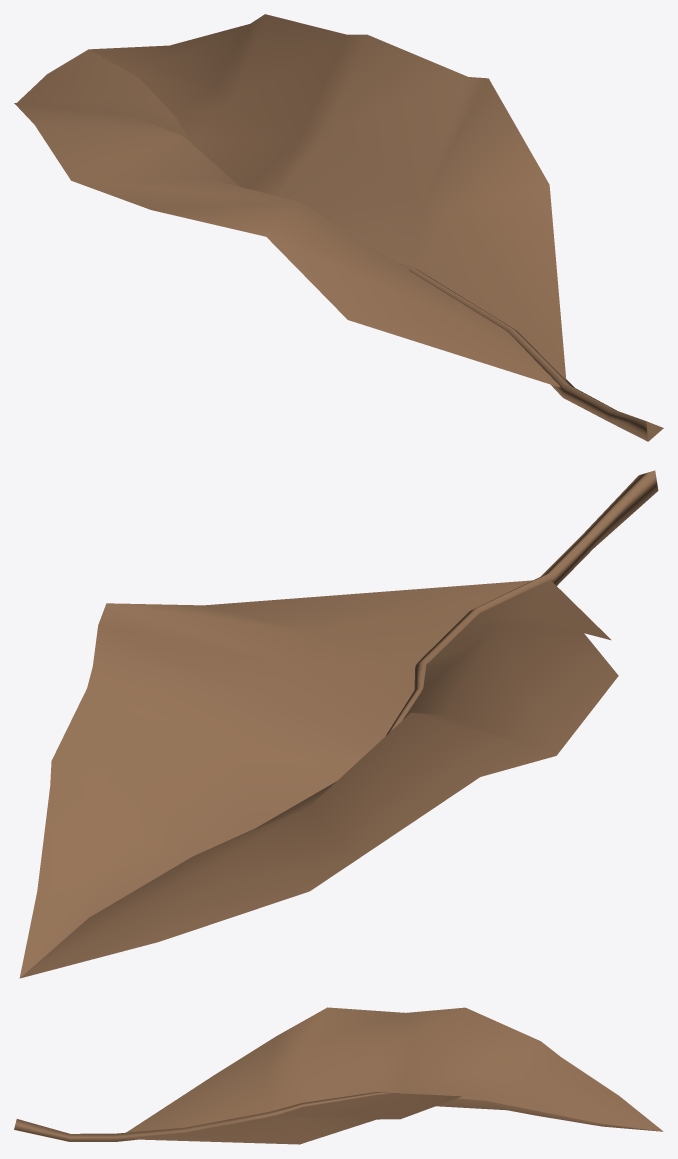
File: dead_leaf_01.glb
The picture shows the model from 3 angles, top to bottom: view 1: azimuth 30°, elevation 25°; view 2: azimuth 150°, elevation 25°; view 3: azimuth 270°, elevation 25°; orthographic projection. The views are drawn at different scales.
Parts seen in each view (by area): view 1: dead_leaf_01; view 2: dead_leaf_01; view 3: dead_leaf_01.
Boxes of the visible parts, x1,y1,x2,y2 form: dead_leaf_01: [14, 14, 663, 441]; dead_leaf_01: [19, 470, 658, 978]; dead_leaf_01: [14, 1007, 663, 1144].
Bounding box in the file's own units: 0.077 × 0.023 × 0.1837.
